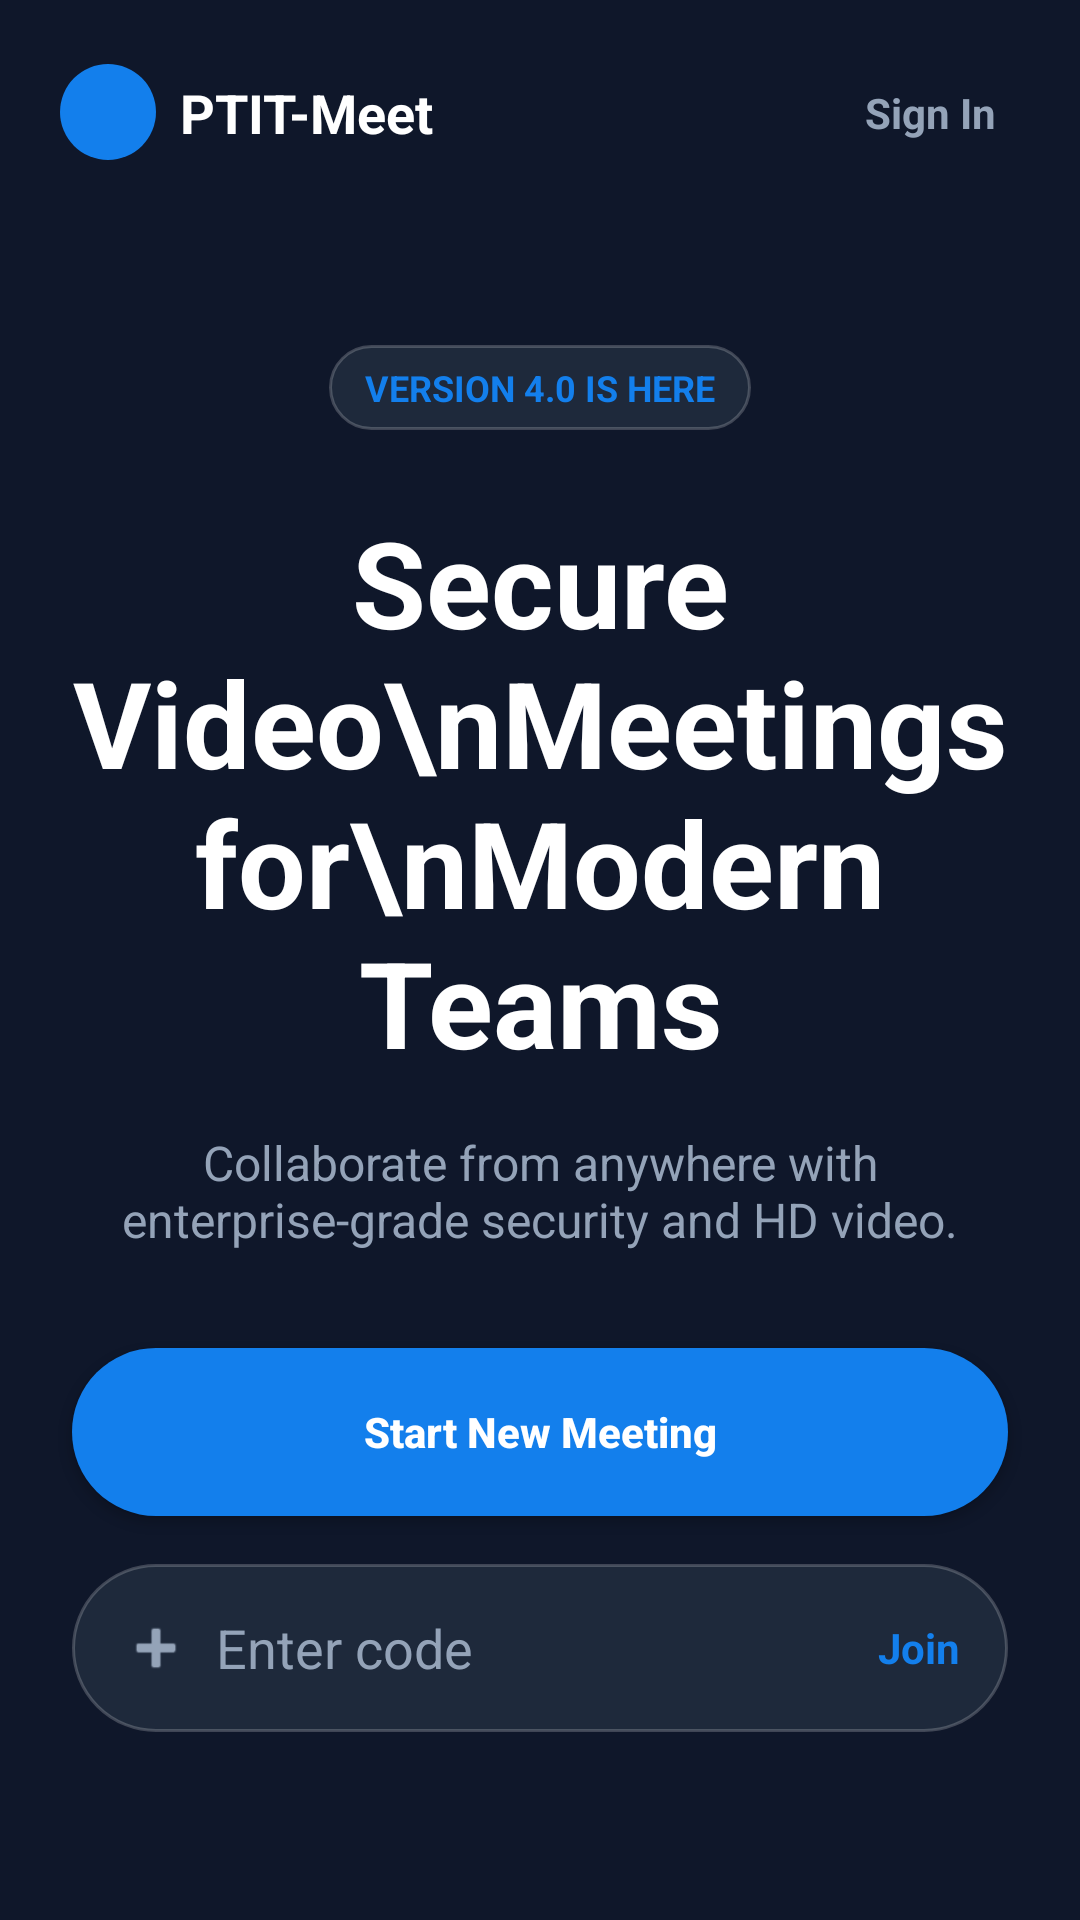

Icons on this 1080 × 1920 Android screen, each with its box as detection(x1, y1, x2, y2):
add: detection(136, 1628, 176, 1668)
